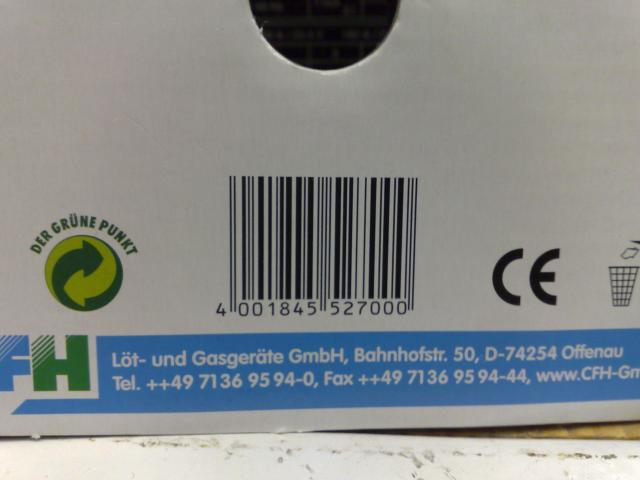Barcode: (200, 158, 444, 327)
